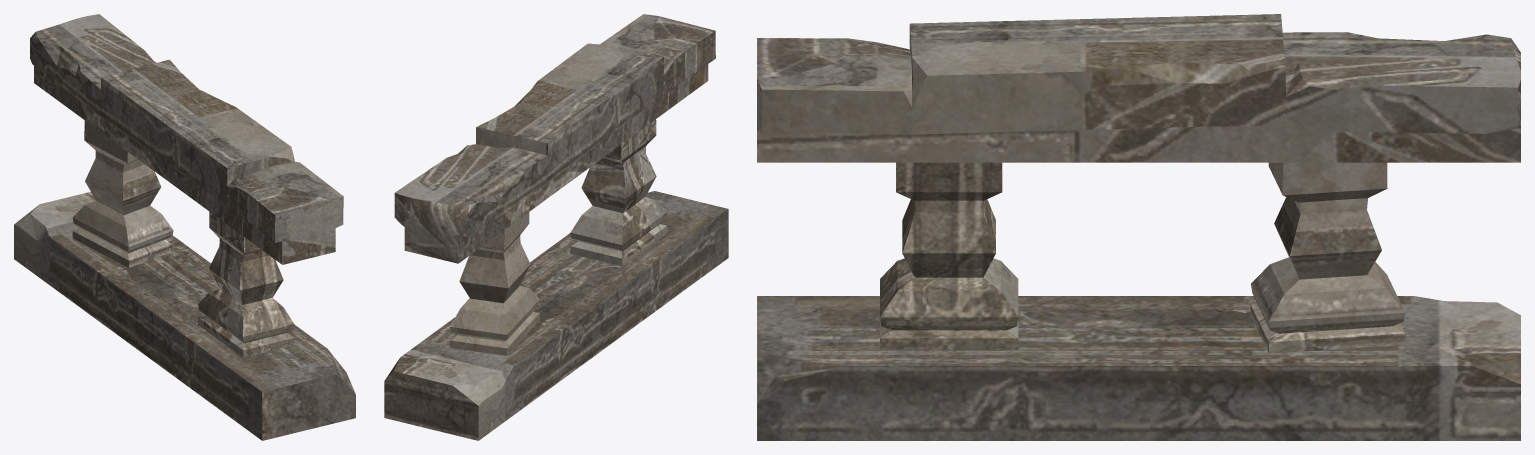
File: bg_lut_lutomb_fence01_sm_old.FBX
The picture shows the model from 3 angles, left to right: view 1: azimuth 30°, elevation 25°; view 2: azimuth 150°, elevation 25°; view 3: azimuth 270°, elevation 25°; orthographic projection. The views are drawn at different scales.
Parts seen in each view (by area): view 1: bg_lut_lutomb_fence01_sm_old; view 2: bg_lut_lutomb_fence01_sm_old; view 3: bg_lut_lutomb_fence01_sm_old.
Boxes of the visible parts, <box> form: bg_lut_lutomb_fence01_sm_old: <box>14,14,355,440</box>; bg_lut_lutomb_fence01_sm_old: <box>384,14,728,440</box>; bg_lut_lutomb_fence01_sm_old: <box>757,14,1520,440</box>.
Size of the model in its own units: 27.84 by 67.23 by 128.
